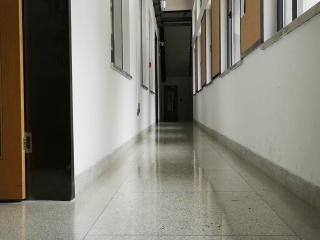room: (1, 3, 76, 204)
